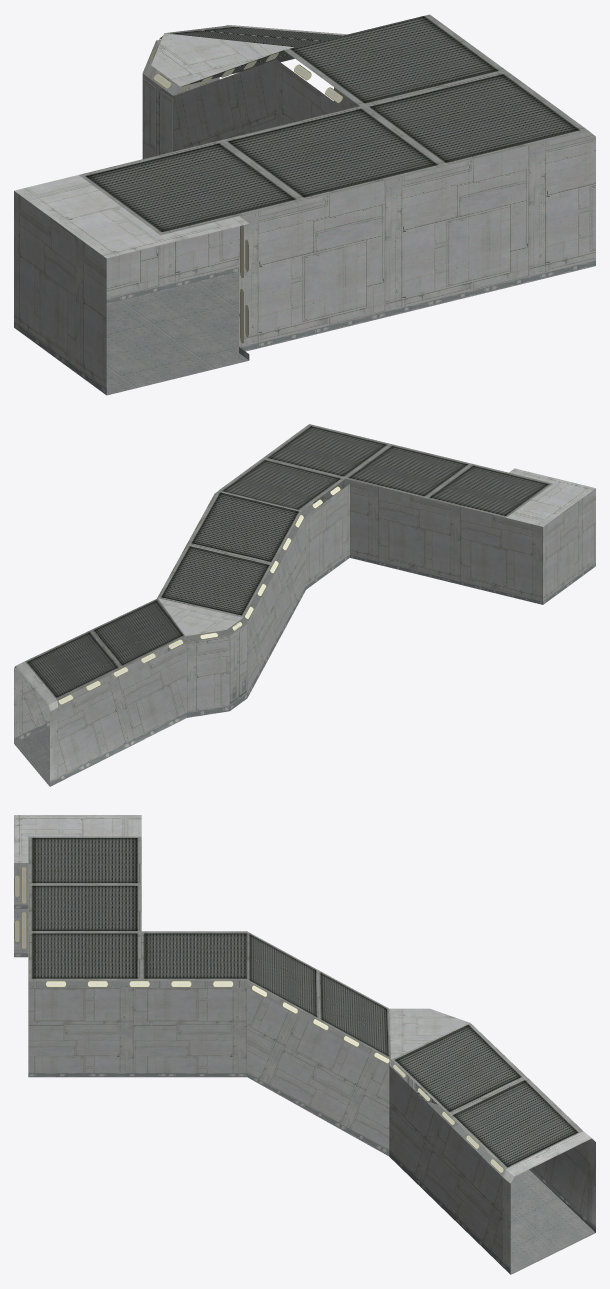
File: mun_all_cloning_s01_r3_ramp_mesh_ramp.fbx
3 views of the same model, one above another, from view 1: azimuth 30°, elevation 25°; view 2: azimuth 150°, elevation 25°; view 3: azimuth 270°, elevation 25° (orthographic). The views are drawn at different scales.
Visible parts, largest first — view 1: mesh_node; view 2: mesh_node; view 3: mesh_node.
Boxes of the visible parts, x1,y1,x2,y2 form: mesh_node: (14, 14, 595, 395); mesh_node: (14, 424, 595, 786); mesh_node: (14, 815, 595, 1274).
Bounding box in the file's own units: 18.5 × 9.25 × 20.5.
